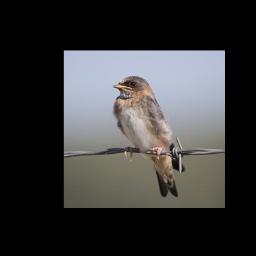Swallow: (112, 74, 187, 198)
